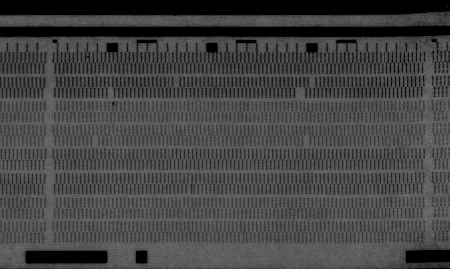Broken hole: (292, 87, 308, 99), (300, 135, 313, 149), (170, 74, 183, 87), (104, 87, 117, 99), (89, 134, 101, 147), (306, 75, 318, 87)
Oblique printing: (184, 184, 196, 195)
